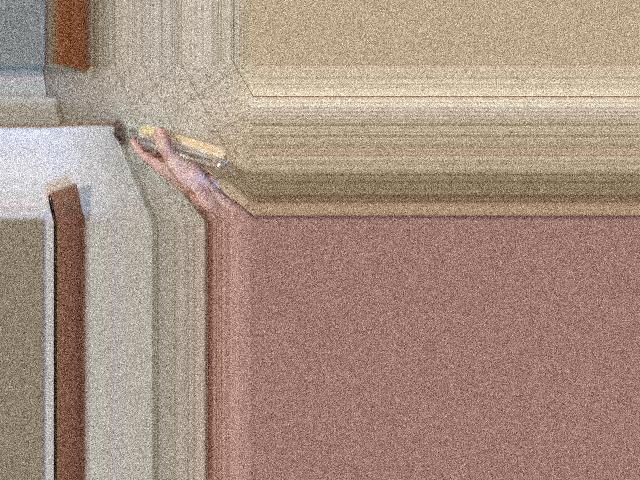cheese: (124, 112, 217, 193)
